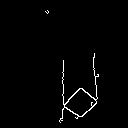cube: (50, 51, 108, 126)
